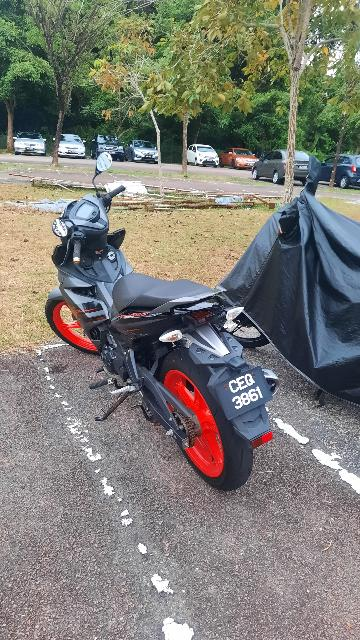License_Plate: (207, 361, 282, 421)
motorcycle: (46, 145, 280, 498)
